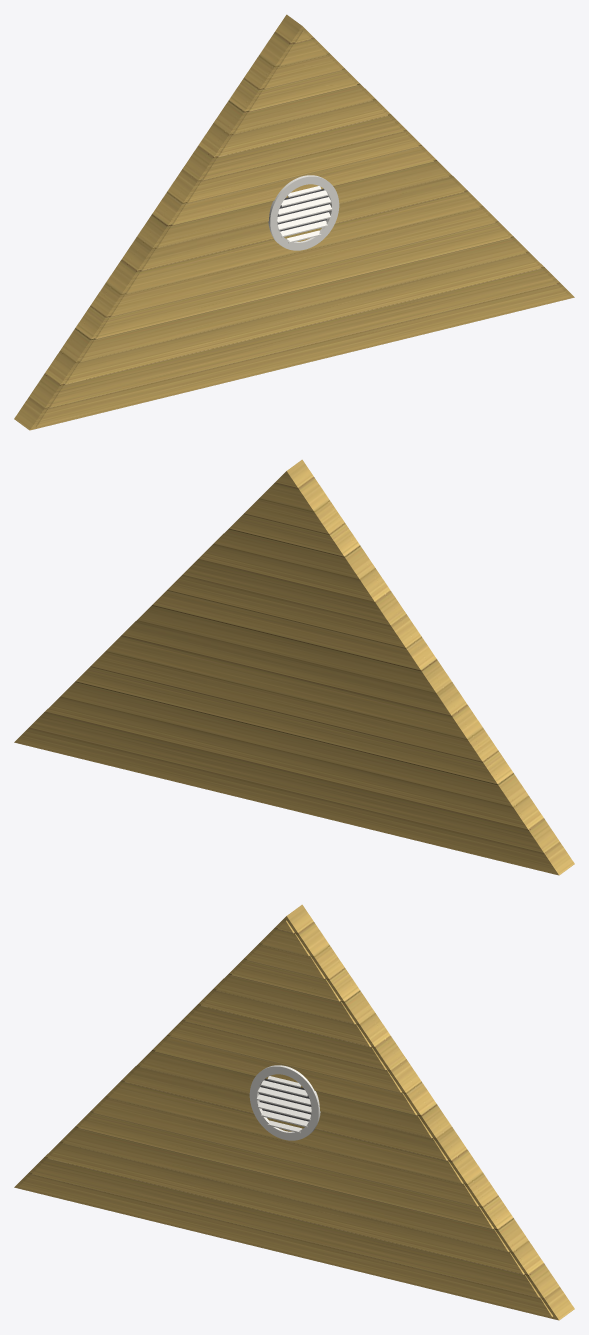
The model's file is gable_back_a.glb.
The picture shows the model from 3 angles, top to bottom: view 1: azimuth 30°, elevation 25°; view 2: azimuth 150°, elevation 25°; view 3: azimuth 330°, elevation 25°; orthographic projection.
Parts seen in each view (by area): view 1: gable_back_a_siding_a, gable_back_a_trim; view 2: gable_back_a_siding_a; view 3: gable_back_a_siding_a, gable_back_a_trim.
Boxes of the visible parts, x1,y1,x2,y2 form: gable_back_a_siding_a: [14, 14, 574, 430]; gable_back_a_trim: [268, 175, 339, 250]; gable_back_a_siding_a: [14, 459, 574, 875]; gable_back_a_siding_a: [14, 904, 574, 1320]; gable_back_a_trim: [249, 1065, 320, 1140].
Size of the model in its own units: 6 by 3.56 by 0.35.
3 materials, 1 textured.
